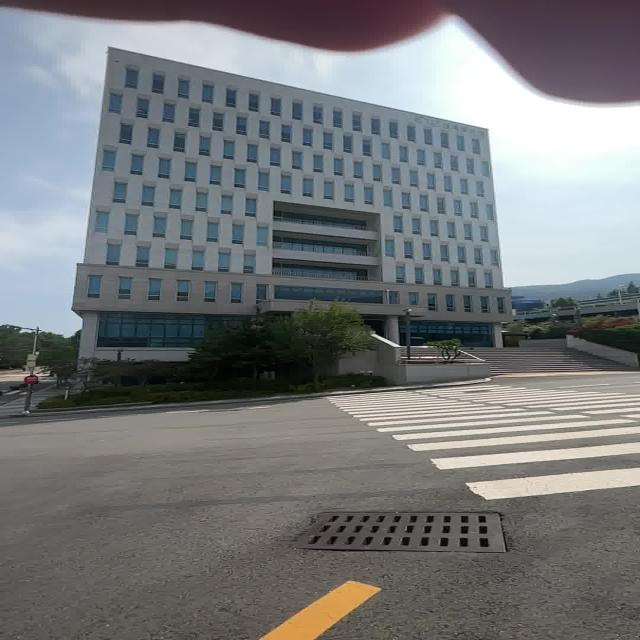building: (59, 52, 523, 342)
